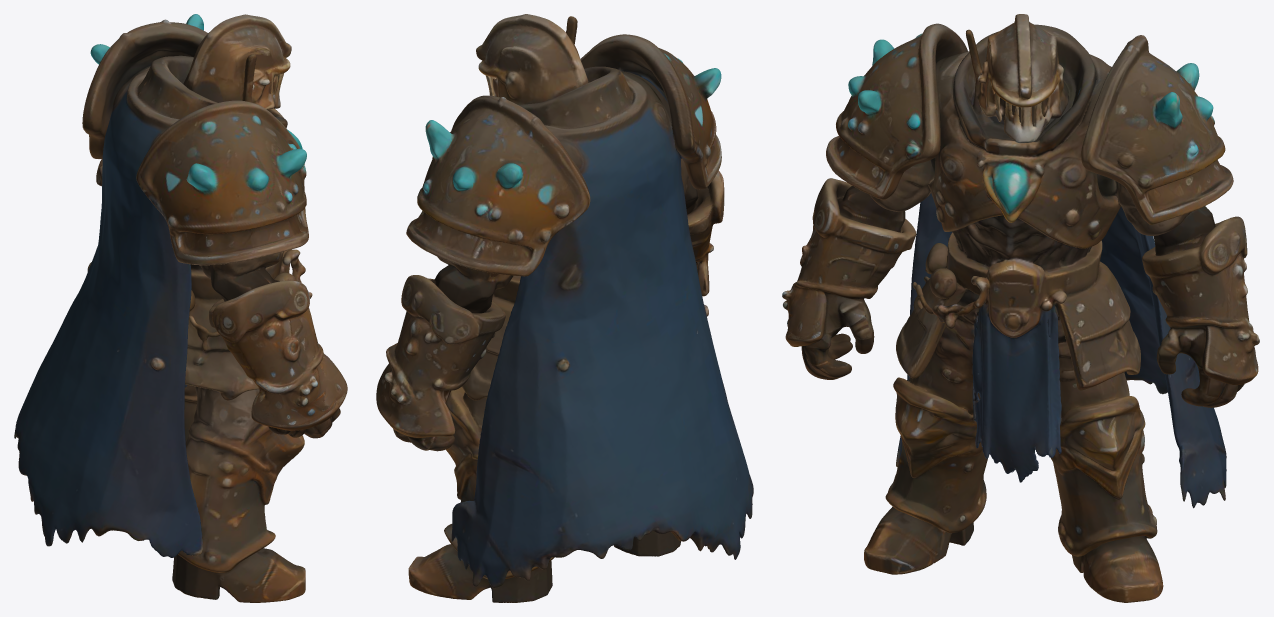
Rendered from الوصي_المدرع.glb.
3 views of the same model, side by side, from view 1: azimuth 30°, elevation 25°; view 2: azimuth 150°, elevation 25°; view 3: azimuth 270°, elevation 25° (orthographic). The views are drawn at different scales.
Parts seen in each view (by area): view 1: tripo_node_0493c403-2615-48be-a979-c0a003fe84bc; view 2: tripo_node_0493c403-2615-48be-a979-c0a003fe84bc; view 3: tripo_node_0493c403-2615-48be-a979-c0a003fe84bc.
Boxes of the visible parts, left/top/right/bottom form: tripo_node_0493c403-2615-48be-a979-c0a003fe84bc: left=14, top=14, right=347, bottom=602; tripo_node_0493c403-2615-48be-a979-c0a003fe84bc: left=376, top=14, right=753, bottom=602; tripo_node_0493c403-2615-48be-a979-c0a003fe84bc: left=782, top=14, right=1259, bottom=602.
Size of the model in its own units: 0.5216 by 1 by 0.7823.
1 material, 1 textured.
